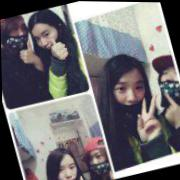NONE: (32, 22, 65, 57), (52, 157, 83, 180)
WRONG: (109, 70, 152, 117), (1, 17, 35, 56), (155, 62, 180, 105), (87, 149, 111, 178)
